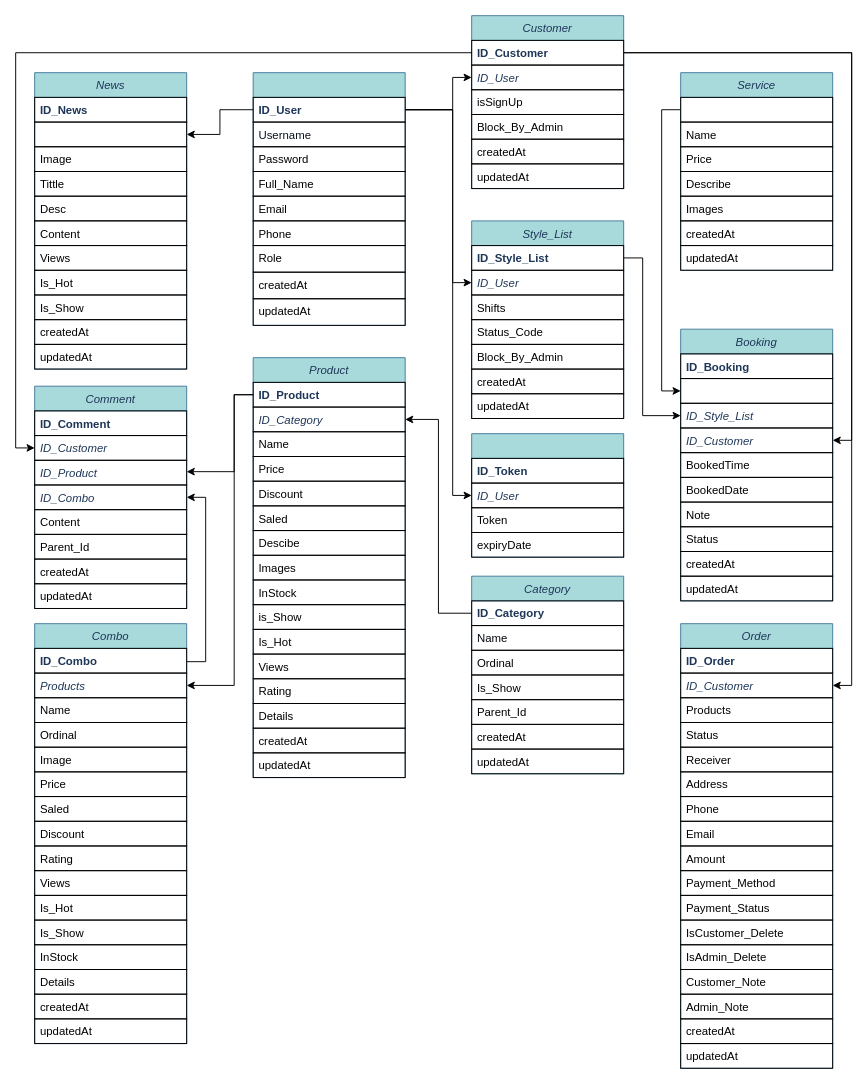
This 867x1084 diagram has some shape labels left out. Here are the shapes that lost their labels. From the top down, the box of each, then its label:
(680, 96, 833, 122): ID_Service
(34, 121, 187, 147): Create_By
(252, 72, 405, 325): Login
(680, 378, 833, 403): ID_Services
(471, 433, 624, 557): RefreshToken
